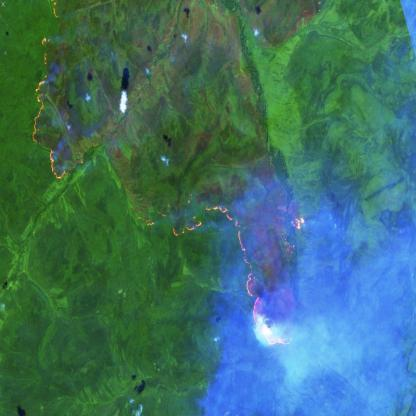fire: (134, 168, 308, 353), (27, 20, 72, 193)
